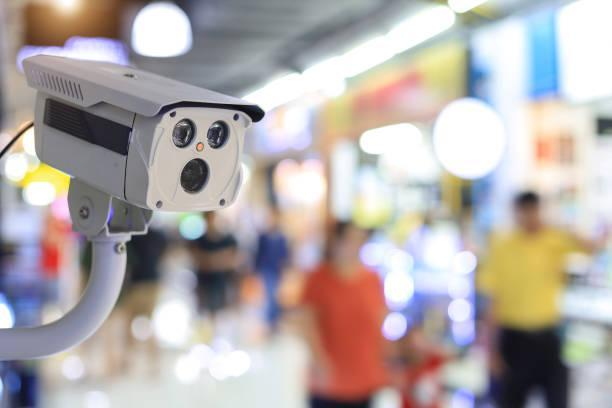camera: (5, 44, 285, 231)
